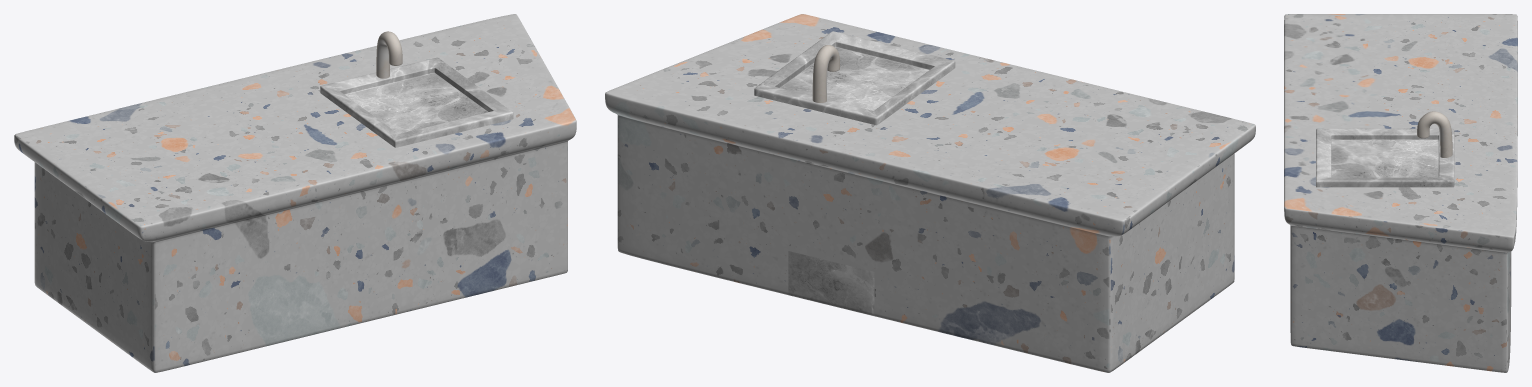
File: Kitchen_sink.FBX
3 renders of one model, left to right at view 1: azimuth 30°, elevation 25°; view 2: azimuth 150°, elevation 25°; view 3: azimuth 270°, elevation 25°, orthographic. The views are drawn at different scales.
Visible parts, largest first — view 1: desk; view 2: desk; view 3: desk.
Part boxes in pixels (x1,y1,x2,y2): desk: (14,14,576,372); desk: (605,14,1255,372); desk: (1284,14,1517,372).
Size of the model in its own units: 264 by 105 by 117.
